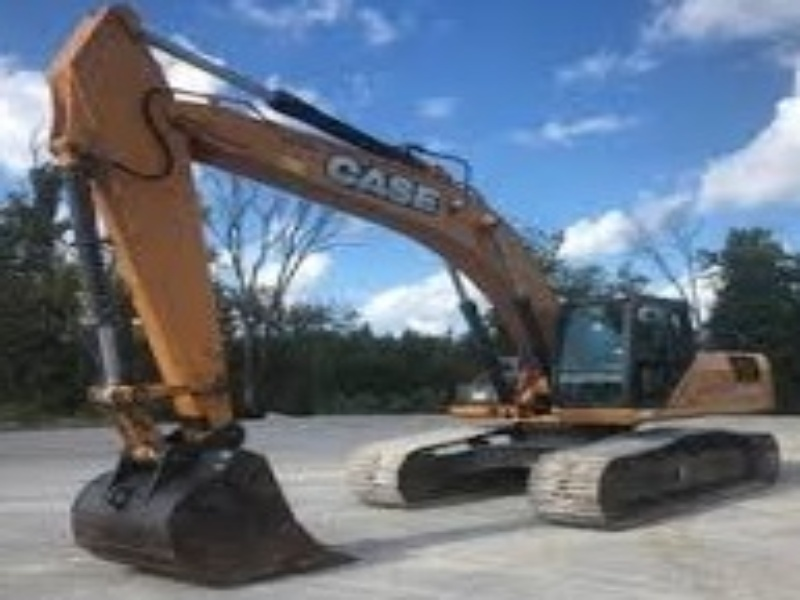wajueji: (344, 157, 791, 537)
